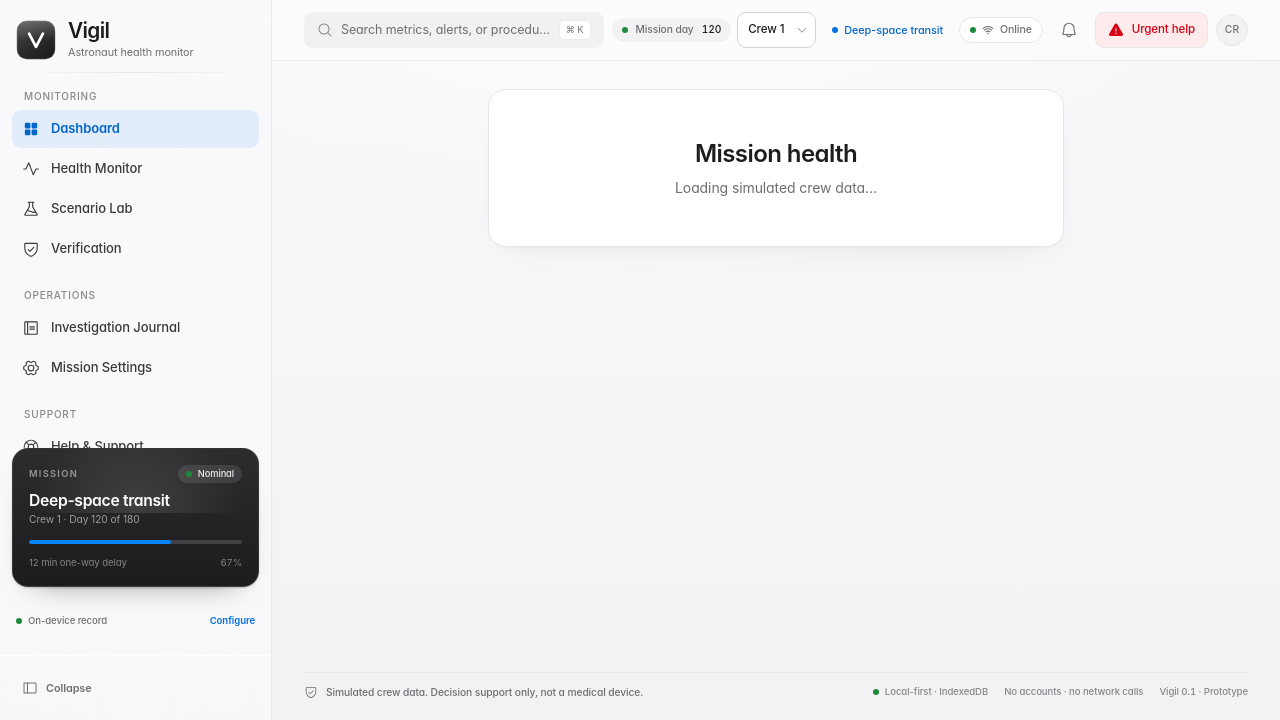
Test: U3: App Shell & Routing › navigates to Urgent Help screen and displays exact copy
Click the button with aria-label "get urgent medical help" at (1151, 30), box [1095,12,1208,48]
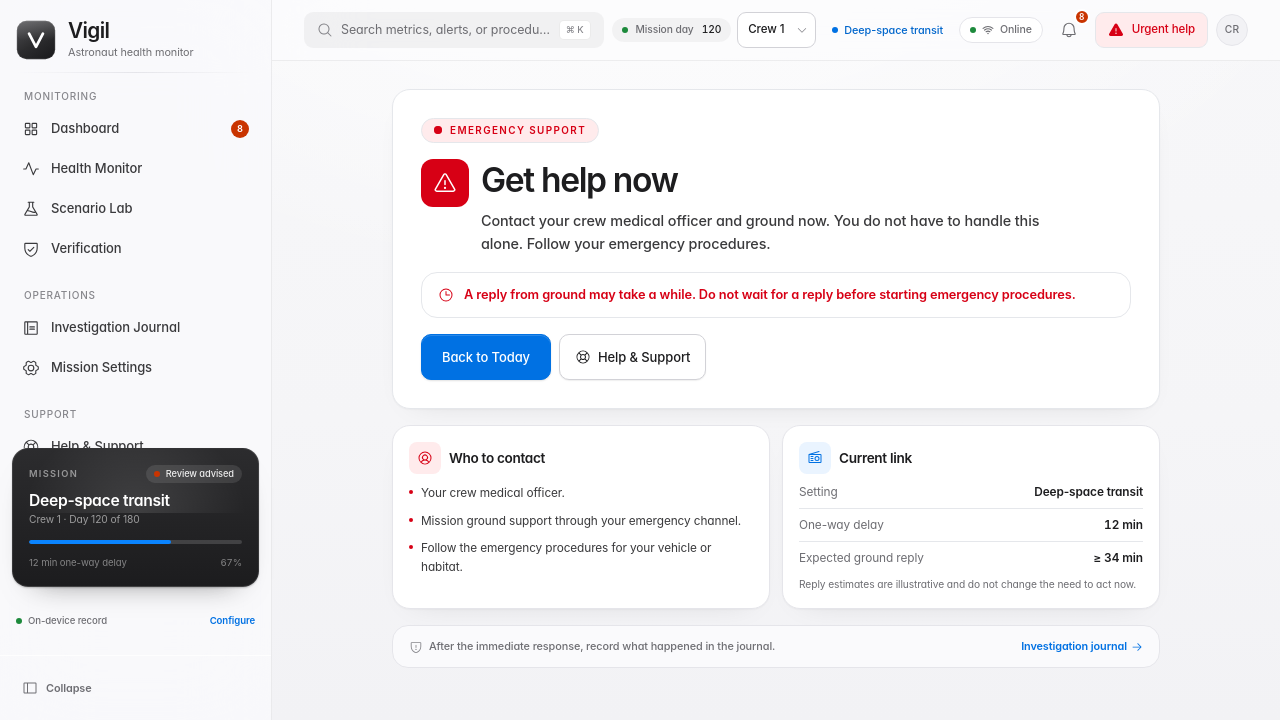
Check: the heading "Get help now" is shown, box [481,159,678,200]
Check: the text "Contact your crew medical officer and ground now. You do not have to handle this alone. Follow your emergency procedures" is shown, box [481,212,1039,252]
Check: the text "A reply from ground may take a while. Do not wait for a reply before starting emergency procedures." is shown, box [464,287,1076,302]
